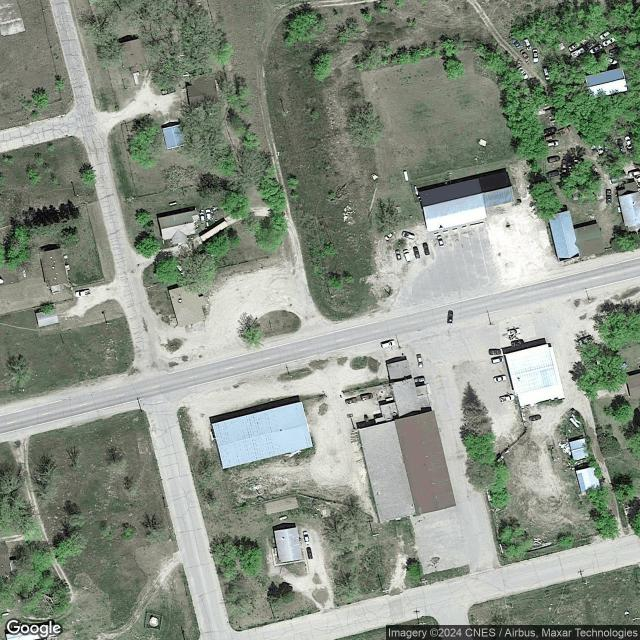Propane: (568, 415, 580, 428), (402, 170, 409, 182), (168, 200, 178, 207), (279, 514, 288, 520), (182, 73, 190, 78)
